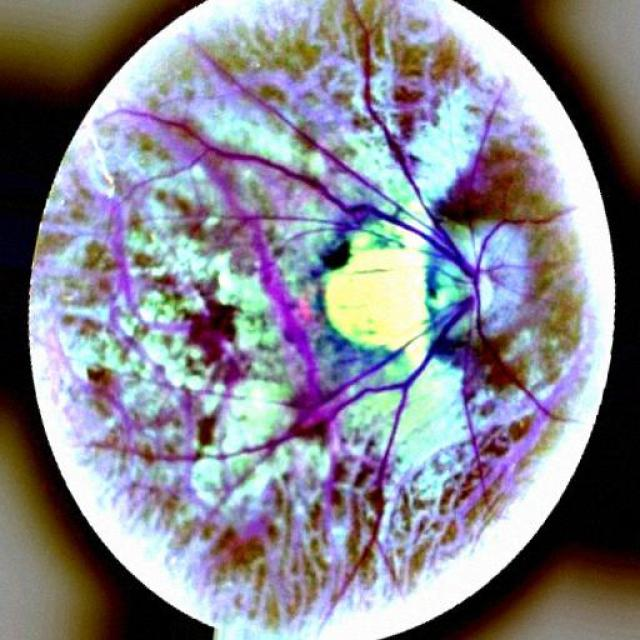Macula: (322, 238, 353, 271)
Nerves: (288, 302, 464, 474), (358, 32, 455, 250), (217, 146, 401, 224)
Optic Disk: (436, 226, 528, 334)
